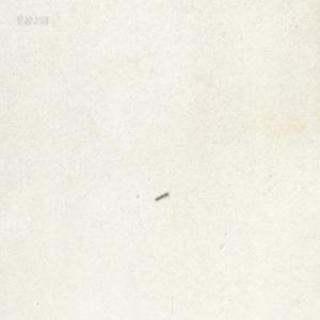Bolttrack_idkeyframe: (153, 189, 168, 200)
